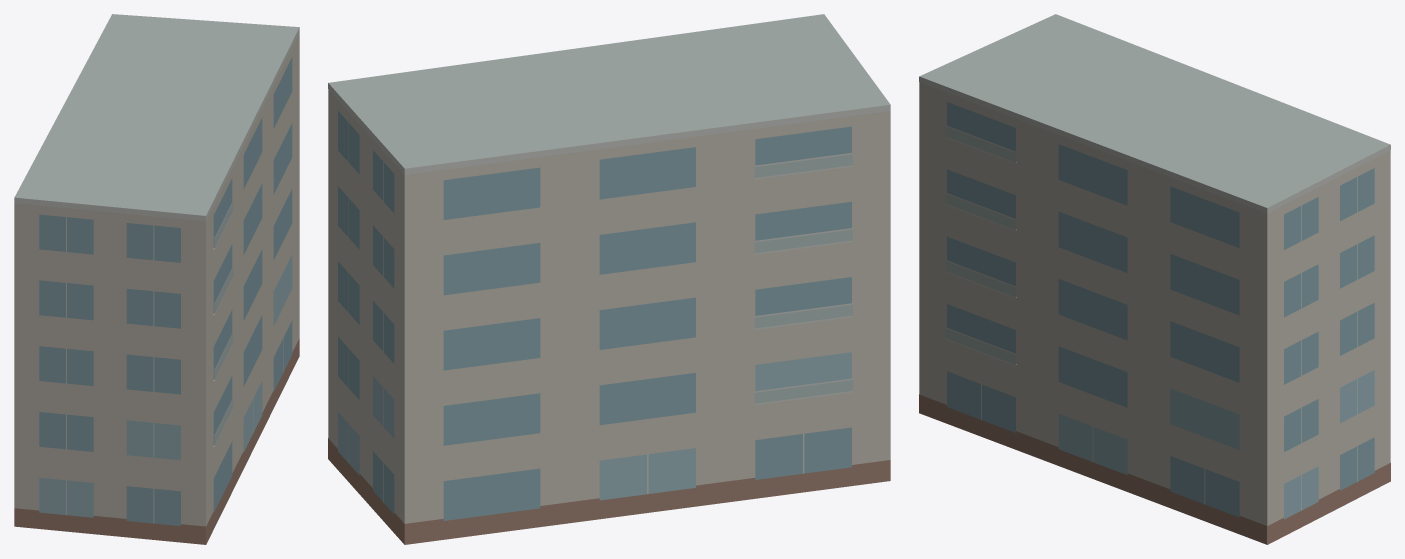
File: survey-upis-32569317.glb
3 views of the same model, side by side, from view 1: azimuth 30°, elevation 25°; view 2: azimuth 150°, elevation 25°; view 3: azimuth 270°, elevation 25° (orthographic). The views are drawn at different scales.
Visible parts, largest first — view 1: survey-upis-32569317.tmp; view 2: survey-upis-32569317.tmp; view 3: survey-upis-32569317.tmp.
Part boxes in pixels (left/top/right/bottom): survey-upis-32569317.tmp: left=14, top=14, right=299, bottom=544; survey-upis-32569317.tmp: left=328, top=14, right=890, bottom=544; survey-upis-32569317.tmp: left=919, top=14, right=1390, bottom=544.
Bounding box in the file's own units: 18.24 × 14.75 × 18.73.
